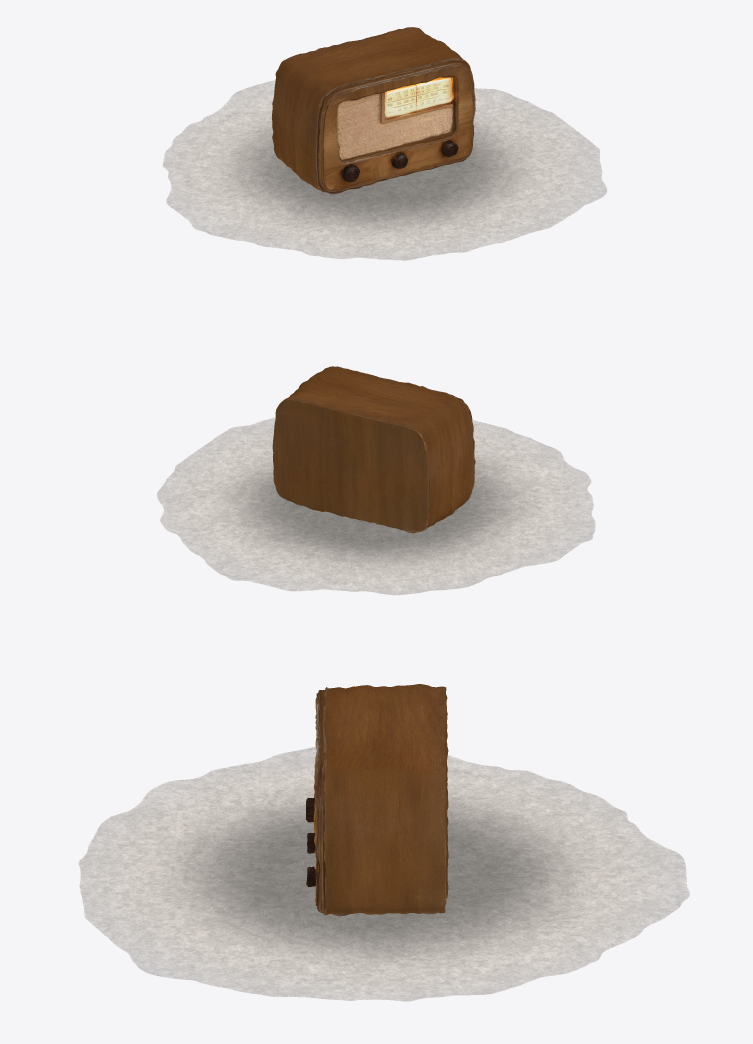
Rendered from radio.glb.
3 renders of one model, top to bottom at view 1: azimuth 30°, elevation 25°; view 2: azimuth 150°, elevation 25°; view 3: azimuth 270°, elevation 25°, orthographic. The views are drawn at different scales.
Visible parts, largest first — view 1: Terreno, Televisor; view 2: Terreno, Televisor; view 3: Terreno, Televisor.
Boxes of the visible parts, box(x1,y1,x2,y2) form: Terreno: box(162, 80, 607, 260); Televisor: box(272, 27, 475, 194); Terreno: box(157, 417, 595, 595); Televisor: box(272, 366, 475, 533); Terreno: box(78, 746, 689, 1001); Televisor: box(306, 684, 448, 916).
Size of the model in its own units: 2.85 by 0.6695 by 2.85.
2 materials, 2 textured.
